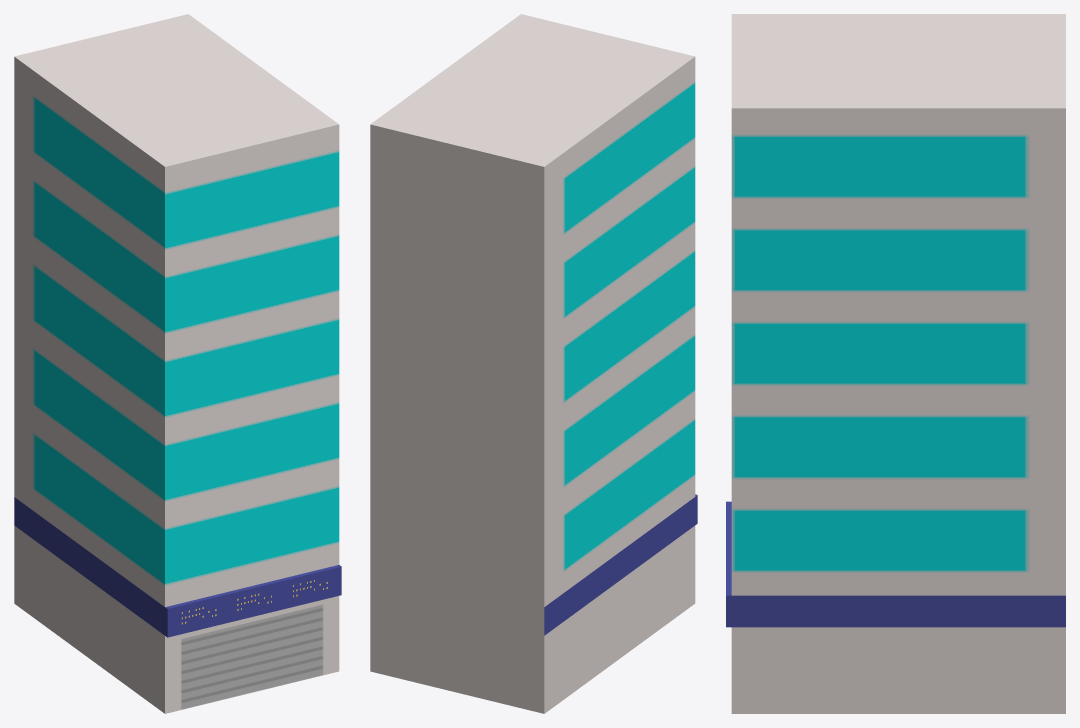
File: nitorobiru.obj
The picture shows the model from 3 angles, left to right: view 1: azimuth 30°, elevation 25°; view 2: azimuth 150°, elevation 25°; view 3: azimuth 270°, elevation 25°; orthographic projection. The views are drawn at different scales.
Parts seen in each view (by area): view 1: pCube1; view 2: pCube1; view 3: pCube1.
Part boxes in pixels (bbox=[...]): pCube1: bbox=[14, 14, 341, 713]; pCube1: bbox=[370, 14, 697, 713]; pCube1: bbox=[726, 14, 1065, 713].
Bounding box in the file's own units: 2 × 6 × 3.05.
Materials: 3 (3 with a texture image).
